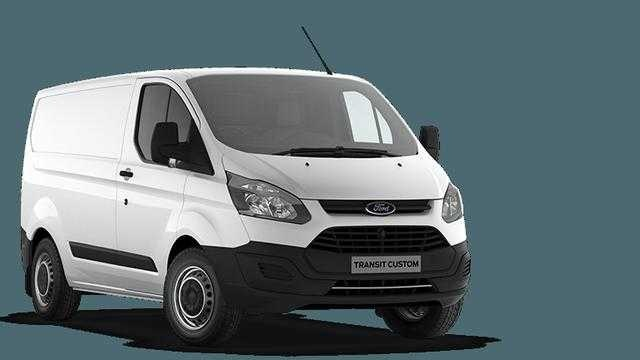van: (20, 65, 471, 345)
